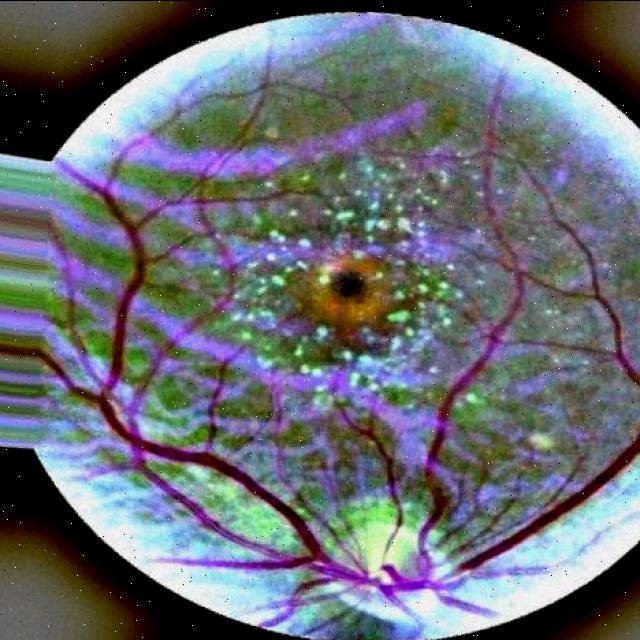Macula: (309, 254, 387, 330)
Nerves: (0, 75, 640, 613), (449, 430, 640, 578), (341, 408, 403, 552)
Optic Disk: (327, 536, 459, 636)
